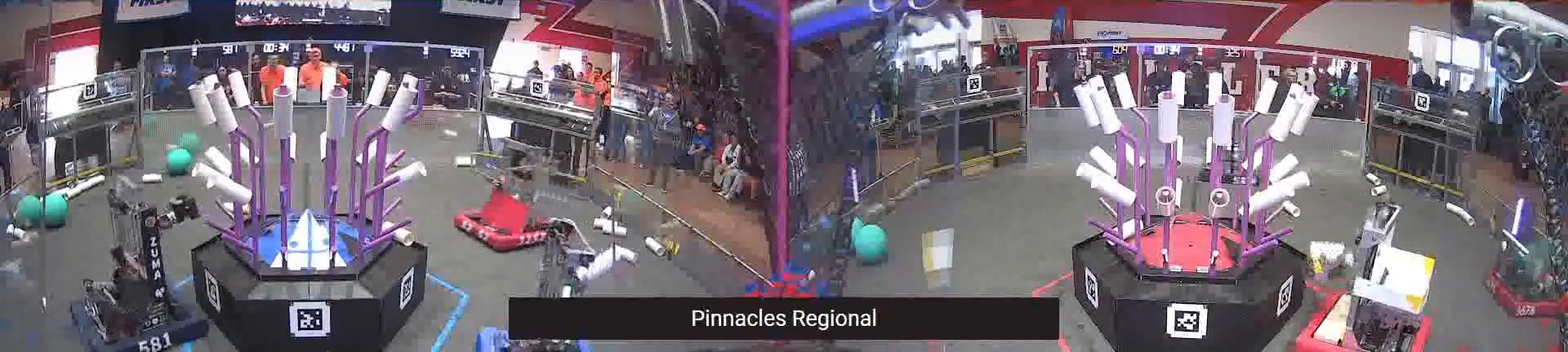reef: (1075, 69, 1321, 352), (191, 68, 436, 352)
robot: (65, 189, 213, 352), (1290, 194, 1441, 352), (475, 213, 591, 352), (1482, 231, 1568, 321), (452, 180, 556, 250)
